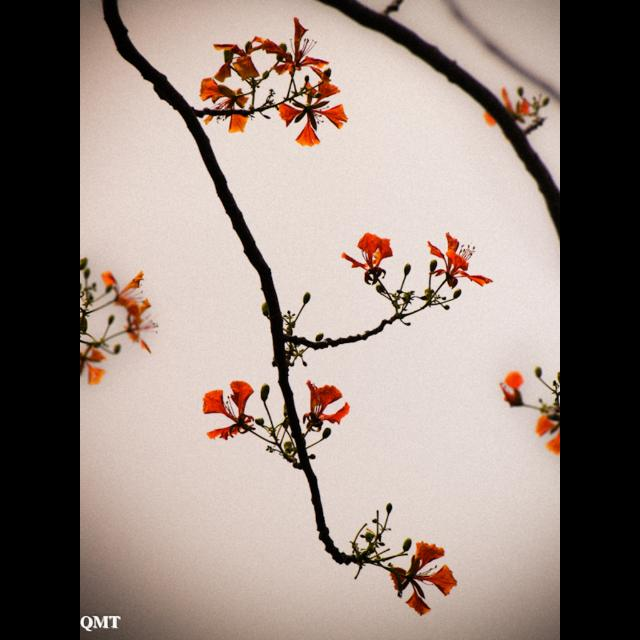Flower: (384, 542, 456, 614), (277, 78, 349, 148), (263, 16, 327, 80), (192, 377, 254, 441), (420, 230, 492, 284), (198, 72, 256, 136), (341, 228, 394, 276), (302, 376, 348, 430), (101, 262, 149, 312), (122, 300, 164, 354), (478, 86, 532, 124), (210, 32, 270, 64), (493, 369, 525, 409), (80, 346, 108, 386), (536, 414, 560, 458)
